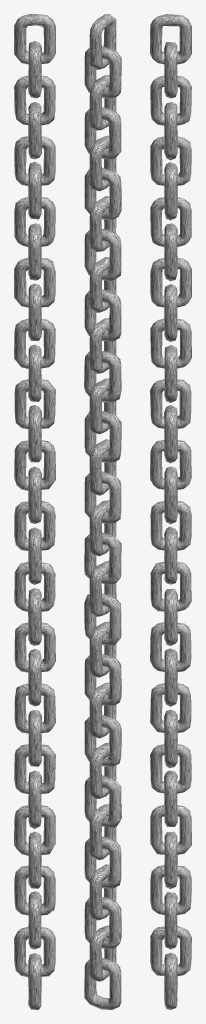
File: SM_Chain.fbx
The picture shows the model from 3 angles, left to right: view 1: azimuth 90°, elevation 25°; view 2: azimuth 150°, elevation 25°; view 3: azimuth 270°, elevation 25°; orthographic projection.
Visible parts, largest first — view 1: SM_Chain_LOD0; view 2: SM_Chain_LOD0; view 3: SM_Chain_LOD0.
Part boxes in pixels (<box>): SM_Chain_LOD0: <box>14,14,55,1009</box>; SM_Chain_LOD0: <box>84,14,121,1009</box>; SM_Chain_LOD0: <box>150,14,191,1009</box>.
Bounding box in the file's own units: 9.84 × 9.84 × 257.
